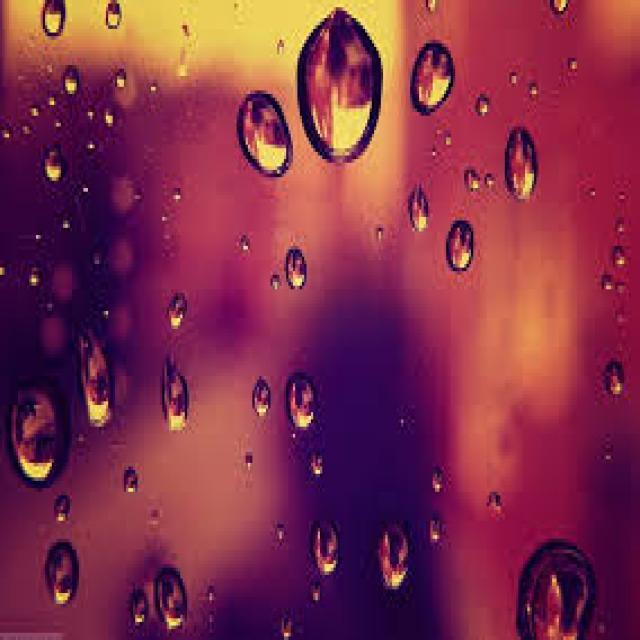raindrop: (284, 0, 392, 176), (2, 357, 84, 512), (232, 76, 300, 192), (72, 305, 121, 437), (498, 110, 551, 228), (32, 535, 94, 623), (153, 341, 200, 455), (370, 512, 422, 614), (407, 35, 462, 128), (146, 549, 198, 640), (436, 202, 486, 290), (306, 498, 350, 594), (283, 362, 324, 442)
